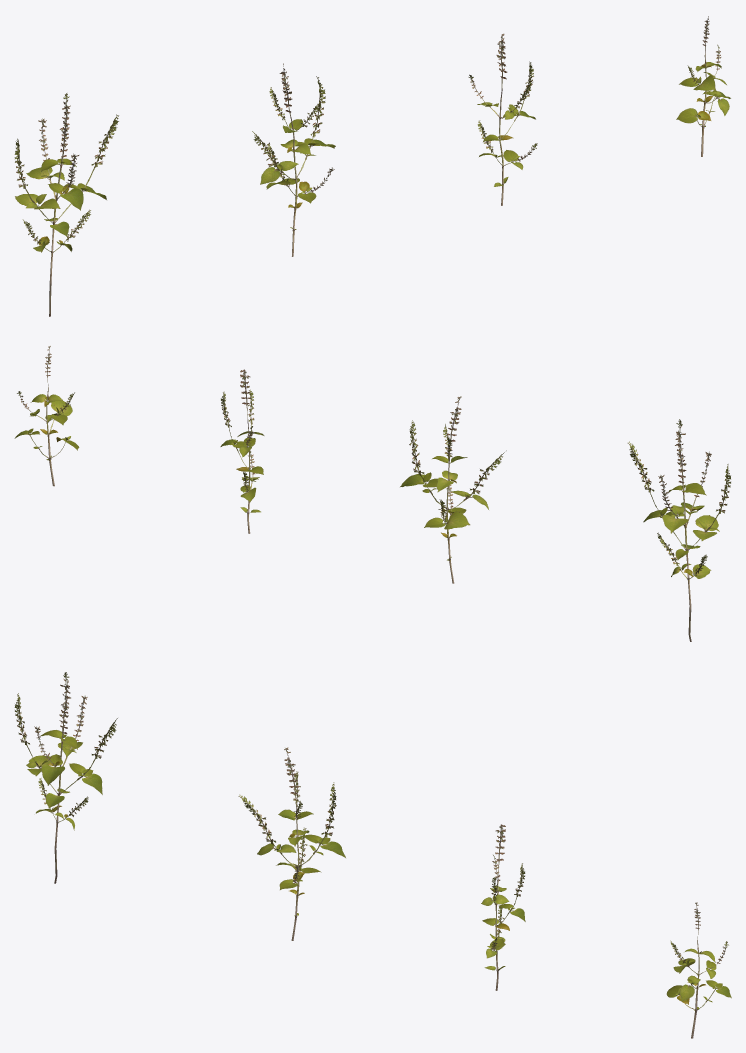
Rendered from shrub_03_1k.gltf.
3 views of the same model, one above another, from view 1: azimuth 30°, elevation 25°; view 2: azimuth 150°, elevation 25°; view 3: azimuth 330°, elevation 25° (orthographic). The views are drawn at different scales.
Visible parts, largest first — view 1: shrub_03_a, shrub_03_b, shrub_03_c, shrub_03_d; view 2: shrub_03_a, shrub_03_b, shrub_03_c, shrub_03_d; view 3: shrub_03_a, shrub_03_b, shrub_03_c, shrub_03_d.
Boxes of the visible parts, x1,y1,x2,y2 form: shrub_03_a: [14, 93, 118, 316]; shrub_03_b: [252, 63, 335, 256]; shrub_03_c: [468, 33, 537, 205]; shrub_03_d: [676, 16, 730, 156]; shrub_03_a: [627, 419, 730, 641]; shrub_03_b: [400, 396, 506, 583]; shrub_03_c: [220, 369, 264, 533]; shrub_03_d: [14, 346, 79, 486]; shrub_03_a: [14, 672, 117, 883]; shrub_03_b: [238, 747, 345, 940]; shrub_03_c: [481, 824, 525, 990]; shrub_03_d: [666, 902, 731, 1038].
Size of the model in its own units: 1.37 by 0.4028 by 0.1512.
1 material, 1 textured.
